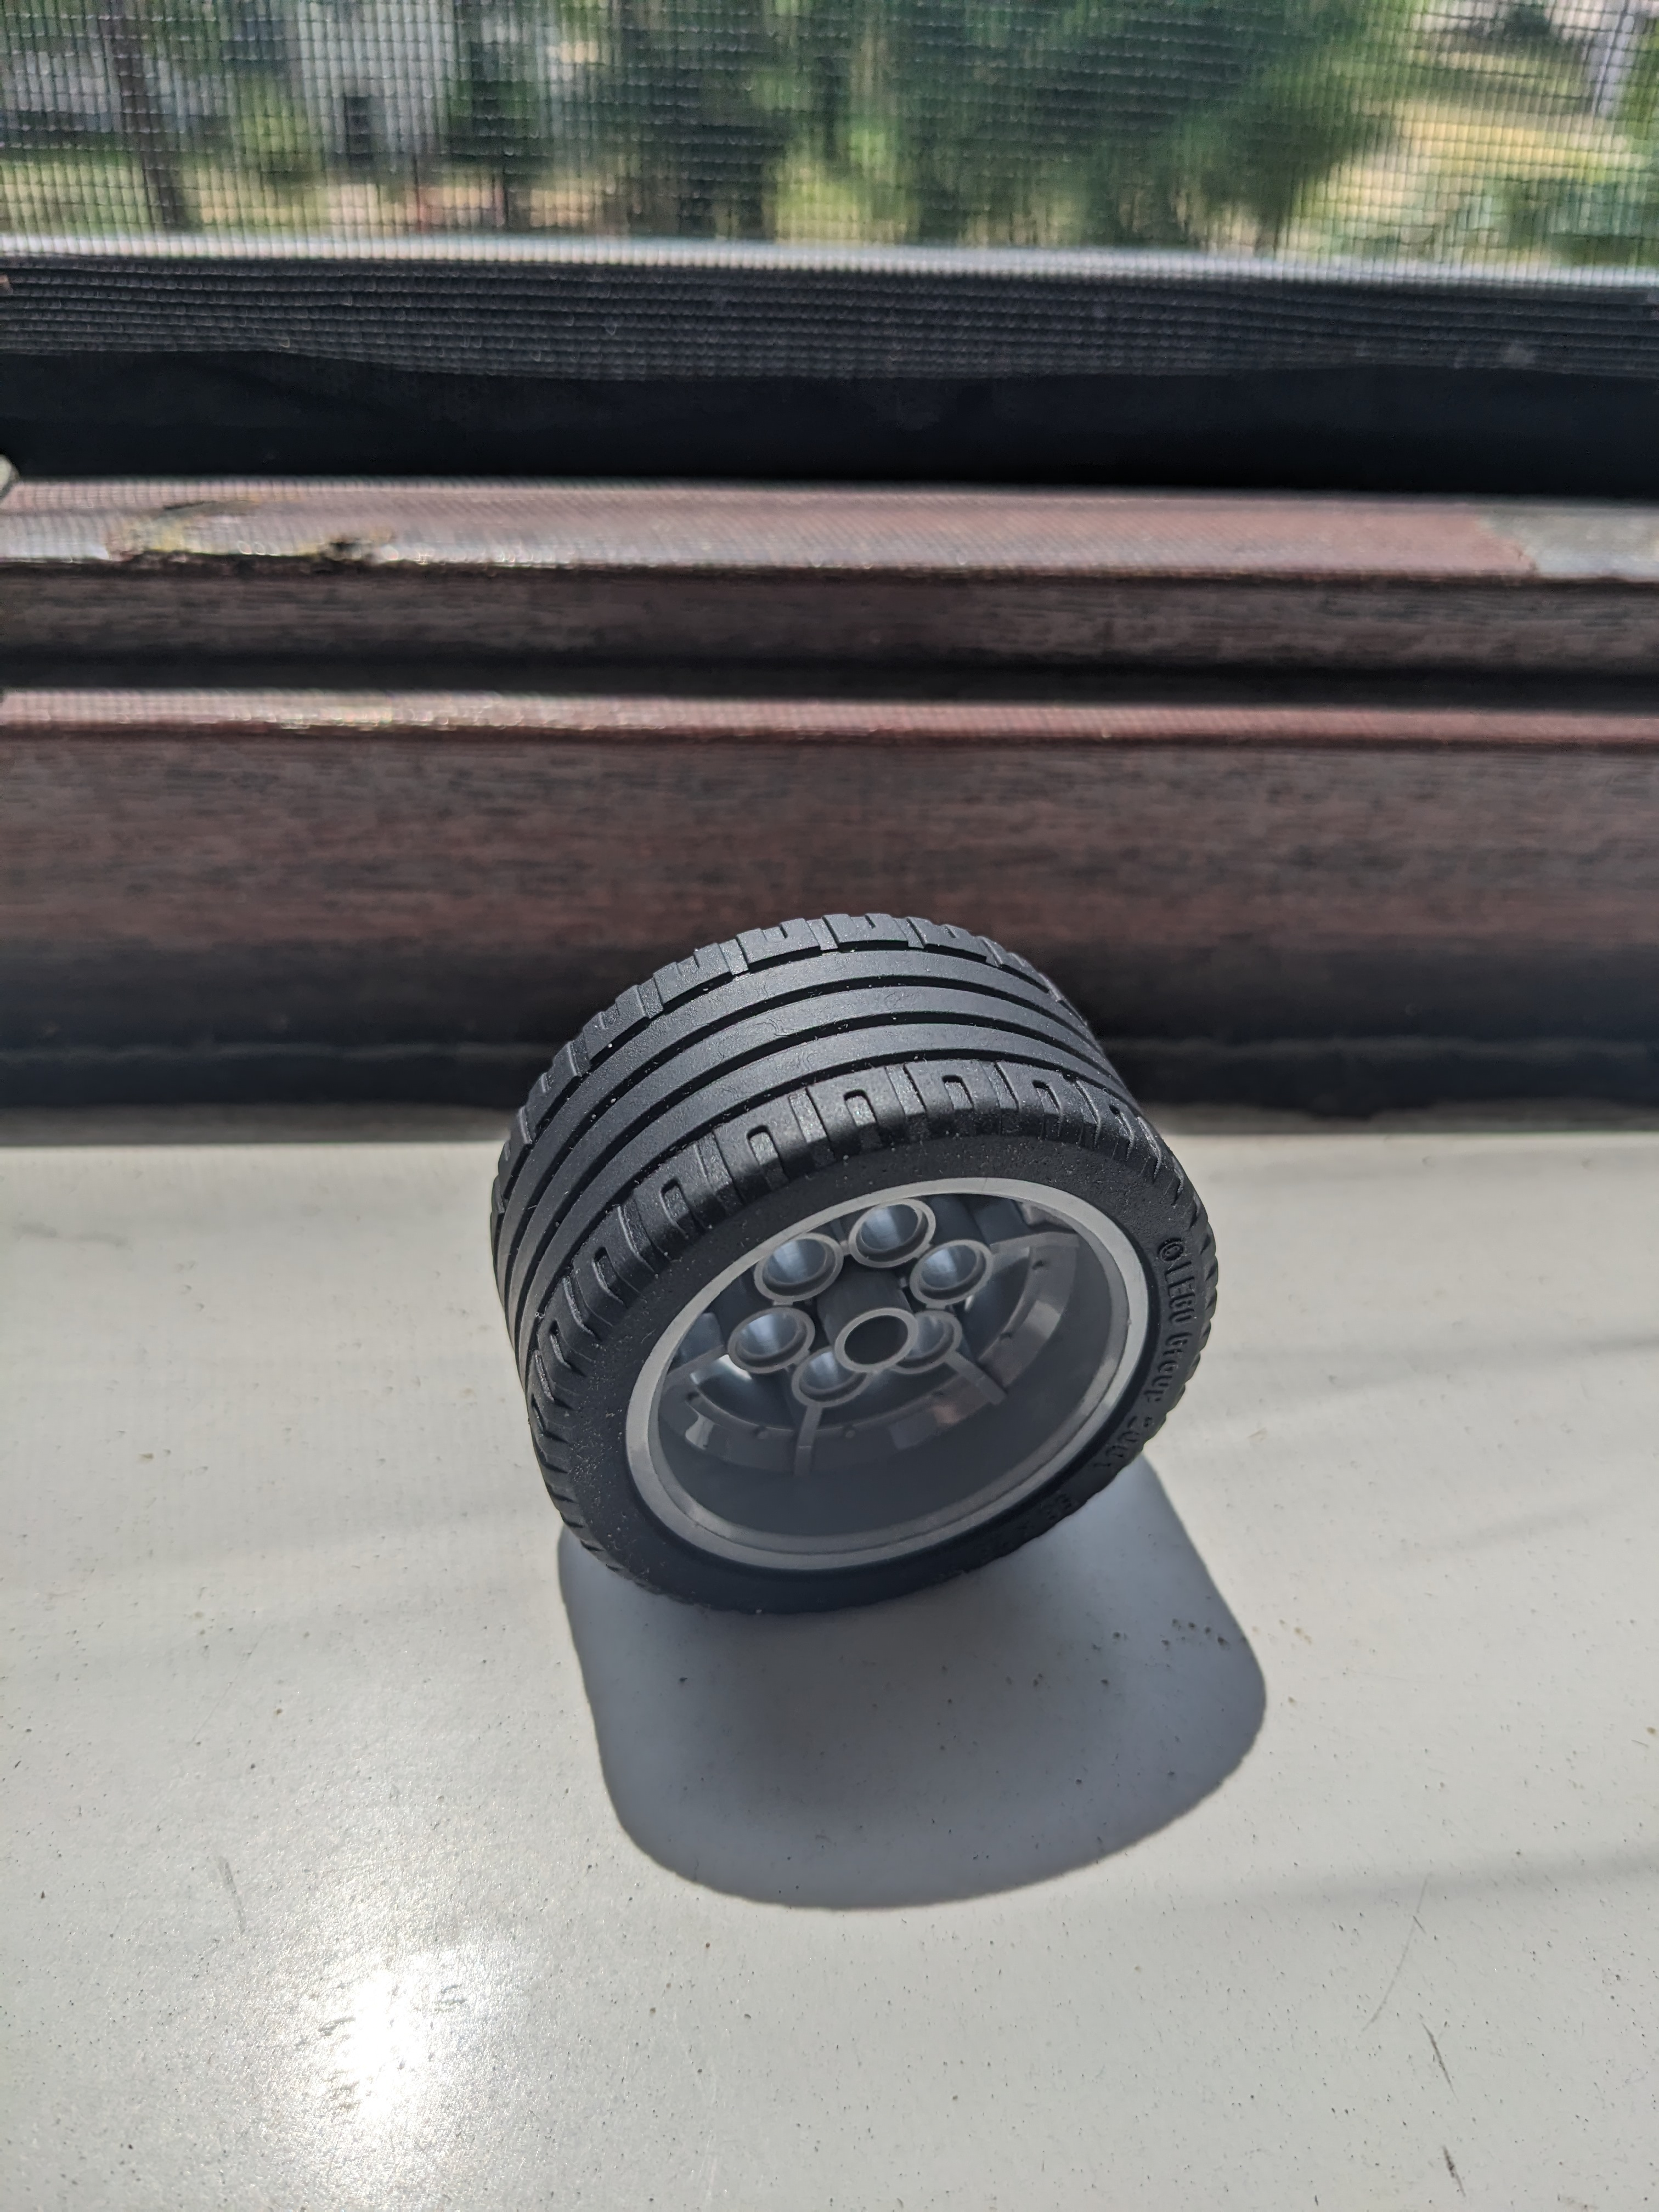Rad: (477, 897, 1234, 1641)
